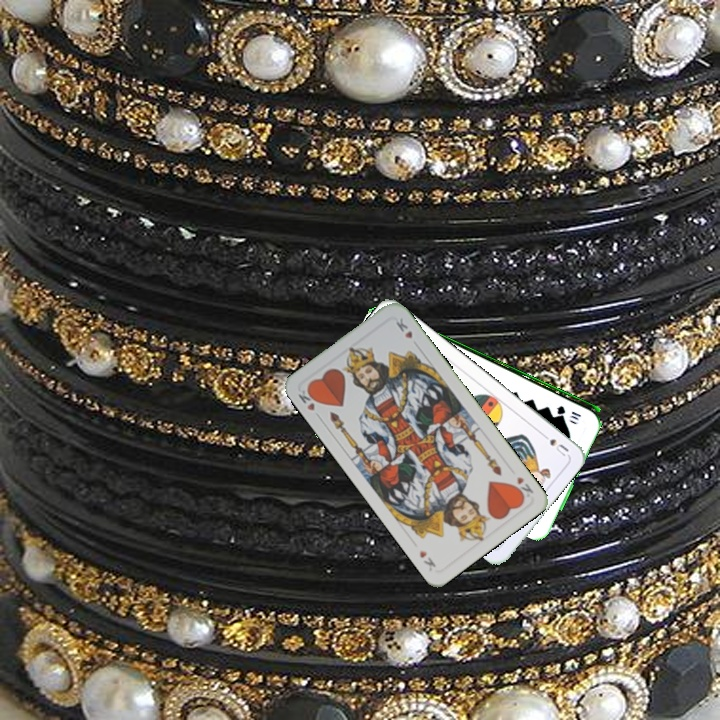G10: (553, 401, 584, 420)
HK: (294, 383, 321, 414), (509, 472, 536, 502)
SU: (536, 428, 571, 459)
